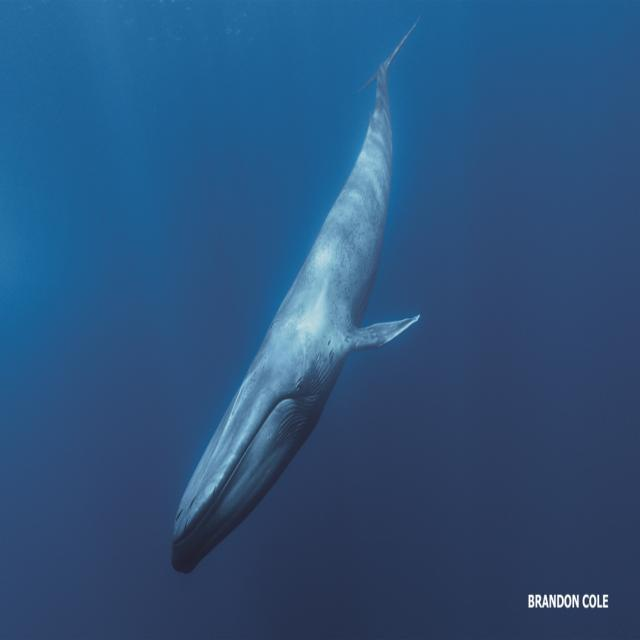blue_whale: (166, 15, 429, 640)
